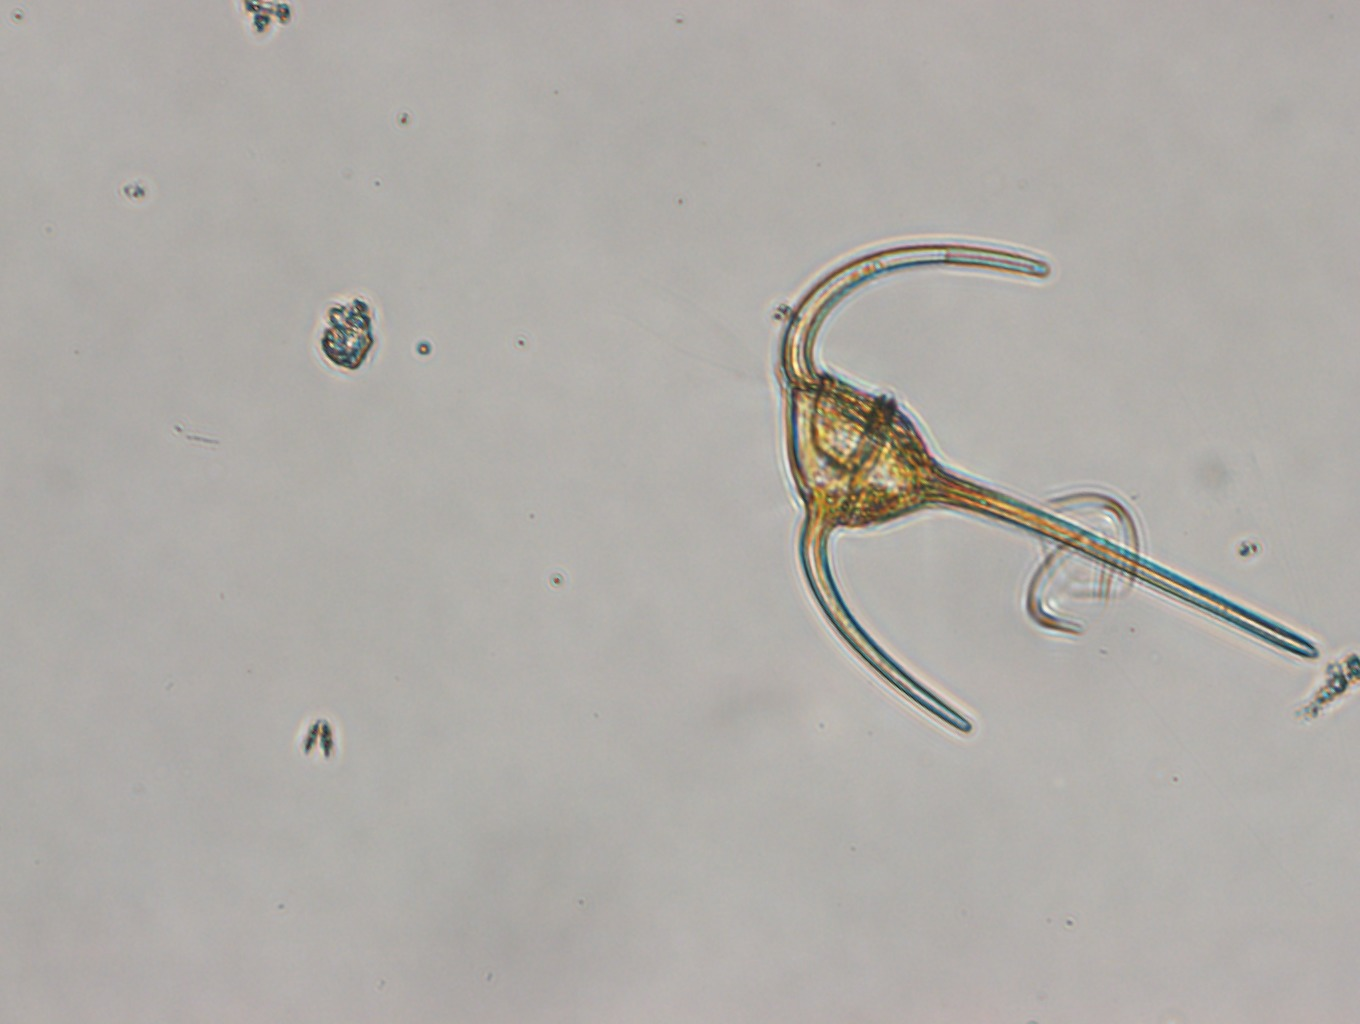ceratium trichoceros: (775, 238, 1322, 734)
